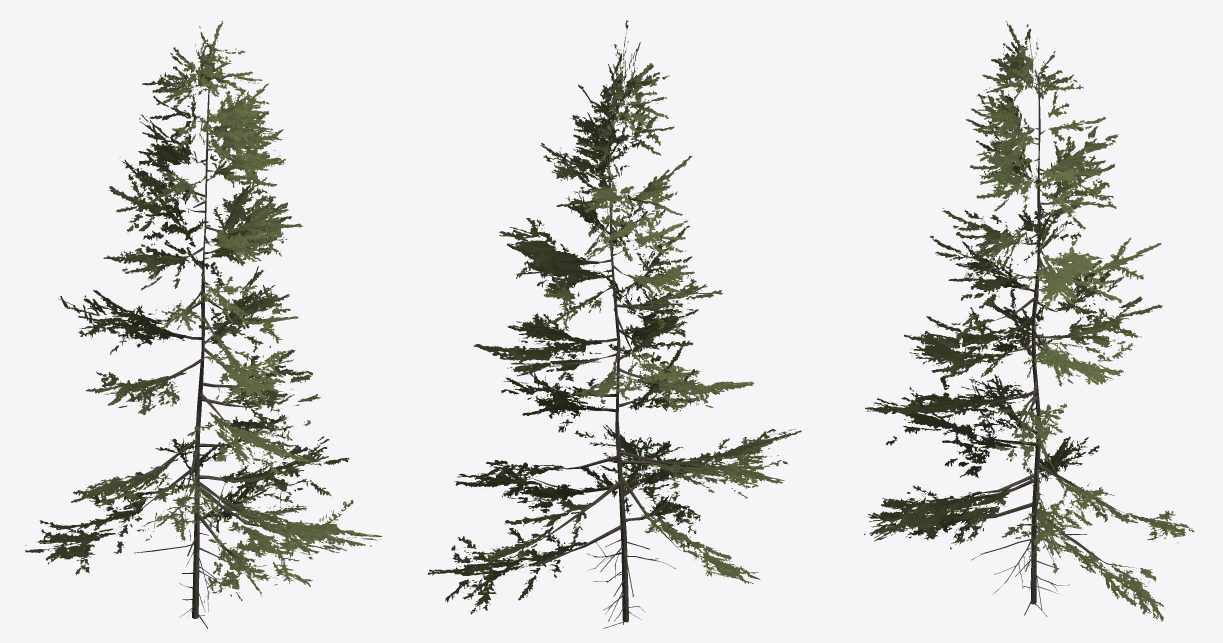
Rendered from firsap_b_lod0.glb.
The picture shows the model from 3 angles, left to right: view 1: azimuth 30°, elevation 25°; view 2: azimuth 150°, elevation 25°; view 3: azimuth 270°, elevation 25°; orthographic projection. The views are drawn at different scales.
Visible parts, largest first — view 1: firsap_b_lod0_needles, firsap_b_lod0_branches_fir_sapling_medium_branches, firsap_b_lod0_branches_fir_sapling_medium_branches_dead; view 2: firsap_b_lod0_needles, firsap_b_lod0_branches_fir_sapling_medium_branches, firsap_b_lod0_branches_fir_sapling_medium_branches_dead; view 3: firsap_b_lod0_needles, firsap_b_lod0_branches_fir_sapling_medium_branches, firsap_b_lod0_branches_fir_sapling_medium_branches_dead.
Boxes of the visible parts, x1=… form: firsap_b_lod0_needles: x1=25, y1=21, x2=382, y2=603; firsap_b_lod0_branches_fir_sapling_medium_branches: x1=116, y1=80, x2=285, y2=618; firsap_b_lod0_branches_fir_sapling_medium_branches_dead: x1=134, y1=533, x2=276, y2=628; firsap_b_lod0_needles: x1=427, y1=20, x2=801, y2=614; firsap_b_lod0_branches_fir_sapling_medium_branches: x1=503, y1=84, x2=702, y2=622; firsap_b_lod0_branches_fir_sapling_medium_branches_dead: x1=587, y1=539, x2=675, y2=628; firsap_b_lod0_needles: x1=864, y1=21, x2=1194, y2=621; firsap_b_lod0_branches_fir_sapling_medium_branches: x1=943, y1=75, x2=1136, y2=604; firsap_b_lod0_branches_fir_sapling_medium_branches_dead: x1=971, y1=524, x2=1086, y2=616.
Bounding box in the file's own units: 4.42 × 7.83 × 4.27.
2 materials, 2 textured.
